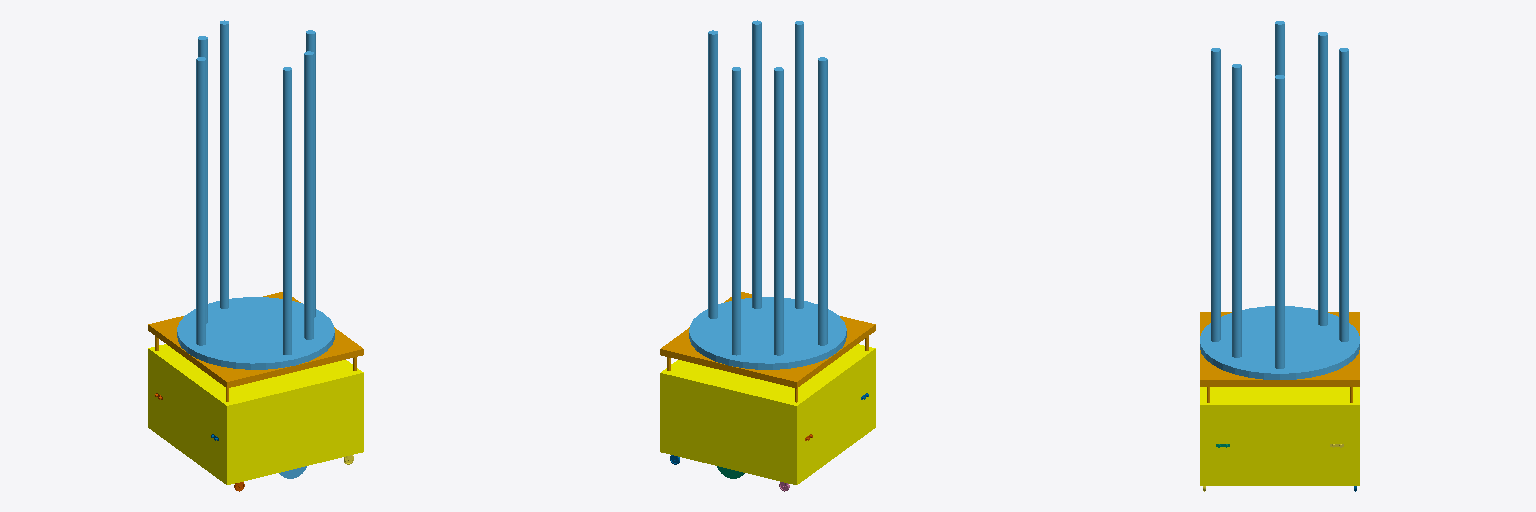
The robot description file, URDF, robot "uvd_mec":
<?xml version="1.0" encoding="utf-8"?>

<robot
  name="uvd_mec" xmlns:xacro="https://www.ros.org/wiki/xacro">
  <link
    name="base_link">
    <inertial>
      <origin
        xyz="0.0 0.0 0.0"
        rpy="0 0 0" />
      <mass
        value="10" />
      <inertia
        ixx="0.01"
        ixy="0.0"
        ixz="0.0"
        iyy="0.01"
        iyz="0.0"
        izz="0.01" />
    </inertial>
    <visual>
      <origin
        xyz="0 0 0"
        rpy="0 0 0" />
      <geometry>
        <mesh
          filename="package://uvd/meshes/base.stl" />
      </geometry>
      <material
        name="">
        <color
          rgba="1 1 0 1" />
      </material>
    </visual>
    <collision>
      <origin
        xyz="0 0 0"
        rpy="0 0 0" />
      <geometry>
	  <box size="0.45 0.45 0.25" />
      </geometry>
    </collision>
  </link>
  <link
    name="back_right_wheel">
    <inertial>
      <origin
        xyz="0.0 0.0 0.0"
        rpy="0 0 0" />
      <mass
        value="3" />
      <inertia
        ixx="0.01"
        ixy="0.0"
        ixz="0.0"
        iyy="0.01"
        iyz="0.0"
        izz="0.01" />
    </inertial>
    <visual>
      <origin
        xyz="0 0 0"
        rpy="0 0 0" />
      <geometry>
        <mesh
          filename="package://uvd/meshes/wheel.stl" />
      </geometry>
    </visual>
    <collision>
      <origin
        xyz="0 0 0"
        rpy="0 1.57075 1.57075" />
      <geometry>
	  <cylinder length="0.03" radius="0.05"/>
      </geometry>
    </collision>
  </link>
  <joint
    name="back_right_wheel_joint"
    type="continuous">
    <origin
      xyz="0 -0.2 -0.11"
      rpy="0 0 0" />
    <parent
      link="base_link" />
    <child
      link="back_right_wheel" />
    <axis
      xyz="0 -1 0" />
  </joint>
  <link
    name="back_left_wheel">
    <inertial>
      <origin
        xyz="0.0 0.0 0.0"
        rpy="0 0 0" />
      <mass
        value="3" />
      <inertia
        ixx="0.01"
        ixy="0.0"
        ixz="0.0"
        iyy="0.01"
        iyz="0.0"
        izz="0.01" />
    </inertial>
    <visual>
      <origin
        xyz="0 0 0"
        rpy="0 0 0" />
      <geometry>
        <mesh
          filename="package://uvd/meshes/wheel.stl" />
      </geometry>
    </visual>
    <collision>
      <origin
        xyz="0 0 0"
        rpy="0 1.57075 1.57075" />
      <geometry>
	  <cylinder length="0.03" radius="0.05"/>
      </geometry>
    </collision>
  </link>
  <joint
    name="back_left_wheel_joint"
    type="continuous">
    <origin
      xyz="0 0.2 -0.11"
      rpy="0 0 3.1416" />
    <parent
      link="base_link" />
    <child

      link="back_left_wheel" />
    <axis
      xyz="0 1 0" />
  </joint>

  <gazebo>
    <plugin filename="libgazebo_ros_diff_drive.so" name="differential_drive_controller_front">
      <rosDebugLevel>Debug</rosDebugLevel>
      <publishWheelTF>True</publishWheelTF>
      <publishTf>1</publishTf>
      <publishWheelJointState>true</publishWheelJointState>
      <alwaysOn>true</alwaysOn>
      <updateRate>100.0</updateRate>
      <leftJoint>back_right_wheel_joint</leftJoint>
      <rightJoint>back_left_wheel_joint</rightJoint>
      <wheelSeparation>0.4</wheelSeparation>
      <wheelDiameter>0.1</wheelDiameter>
      <broadcastTF>1</broadcastTF>
      <wheelTorque>30</wheelTorque>
      <wheelAcceleration>1.8</wheelAcceleration>
      <commandTopic>cmd_vel</commandTopic>
      <odometryFrame>odom</odometryFrame>
      <odometryTopic>odom</odometryTopic>
      <robotBaseFrame>base_link</robotBaseFrame>
    </plugin>
  </gazebo>


  <link
    name="front_caster_right_wheel">
    <inertial>
      <origin
        xyz="0.0 0.0 0.0"
        rpy="0 0 0" />
      <mass
        value="3" />
      <inertia
        ixx="0.01"
        ixy="0.0"
        ixz="0.0"
        iyy="0.01"
        iyz="0.0"
        izz="0.01" />
    </inertial>
    <visual>
      <origin
        xyz="0 0 0"
        rpy="0 0 0" />
      <geometry>
        <mesh
          filename="package://uvd/meshes/caster.stl" />
      </geometry>
    </visual>
    <collision>
      <origin
        xyz="0.005 0 -0.0085"
        rpy="0 0 0" />
      <geometry>
	  <box size="0.037942 0.014811 0.037519" />
      </geometry>
    </collision>
  </link>
  <joint
    name="front_caster_right_wheel_joint"
    type="fixed">
    <origin
      xyz="0.18 -0.21 -0.1327"
      rpy="0 0 0" />
    <parent
      link="base_link" />
    <child

      link="front_caster_right_wheel" />
    <axis
      xyz="0 0 0" />
  </joint>
  <link
    name="front_caster_left_wheel">
    <inertial>
      <origin
        xyz="0.0 0.0 0.0"
        rpy="0 0 0" />
      <mass
        value="3" />
      <inertia
        ixx="0.01"
        ixy="0.0"
        ixz="0.0"
        iyy="0.01"
        iyz="0.0"
        izz="0.01" />
    </inertial>
    <visual>
      <origin
        xyz="0 0 0"
        rpy="0 0 0" />
      <geometry>
        <mesh
          filename="package://uvd/meshes/caster.stl" />
      </geometry>
    </visual>
    <collision>
      <origin
        xyz="0.005 0 -0.0085"
        rpy="0 0 0" />
      <geometry>
	  <box size="0.037942 0.014811 0.037519" />
      </geometry>
    </collision>
  </link>
  <joint
    name="front_caster_left_wheel_joint"
    type="fixed">
    <origin
      xyz="0.18 0.21 -0.1327"
      rpy="0 0 0" />
    <parent
      link="base_link" />
    <child
      link="front_caster_left_wheel" />
    <axis
      xyz="0 0 0" />
  </joint>

  <link
    name="back_caster_right_wheel">
    <inertial>
      <origin
        xyz="0.0 0.0 0.0"
        rpy="0 0 0" />
      <mass
        value="3" />
      <inertia
        ixx="0.01"
        ixy="0.0"
        ixz="0.0"
        iyy="0.01"
        iyz="0.0"
        izz="0.01" />
    </inertial>
    <visual>
      <origin
        xyz="0 0 0"
        rpy="0 0 0" />
      <geometry>
        <mesh
          filename="package://uvd/meshes/caster.stl" />
      </geometry>
    </visual>
    <collision>
      <origin
        xyz="0.005 0 -0.0085"
        rpy="0 0 0" />
      <geometry>
	  <box size="0.037942 0.014811 0.037519" />
      </geometry>
    </collision>
  </link>
  <joint
    name="back_caster_right_wheel_joint"
    type="fixed">
    <origin
      xyz="-0.18 -0.21 -0.1327"
      rpy="0 0 0" />
    <parent
      link="base_link" />
    <child
      link="back_caster_right_wheel" />
    <axis
      xyz="0 0 0" />
  </joint>
  <link
    name="back_caster_left_wheel">
    <inertial>
      <origin
        xyz="0.0 0.0 0.0"
        rpy="0 0 0" />
      <mass
        value="3" />
      <inertia
        ixx="0.01"
        ixy="0.0"
        ixz="0.0"
        iyy="0.01"
        iyz="0.0"
        izz="0.01" />
    </inertial>
    <visual>
      <origin
        xyz="0 0 0"
        rpy="0 0 0" />
      <geometry>
        <mesh
          filename="package://uvd/meshes/caster.stl" />
      </geometry>
    </visual>
    <collision>
      <origin
        xyz="0.005 0 -0.0085"
        rpy="0 0 0" />
      <geometry>
	  <box size="0.037942 0.014811 0.037519" />
      </geometry>
    </collision>
  </link>
  <joint
    name="back_caster_left_wheel_joint"
    type="fixed">
    <origin
      xyz="-0.18 0.21 -0.1327"
      rpy="0 0 0" />
    <parent
      link="base_link" />
    <child
      link="back_caster_left_wheel" />
    <axis
      xyz="0 0 0" />
  </joint>
  <!-- rplidar Laser -->
  <link name="laser">
    <collision>
      <origin xyz="0 0 0" rpy="0 0 0"/>
      <geometry>
    <box size="0.1 0.1 0.1"/>
      </geometry>
    </collision>

    <visual>
      <origin xyz="0 0 0" rpy="0 0 0"/>
      <geometry>
        <mesh filename="package://uvd/meshes/lidar.STL" />
      </geometry>
    </visual>

    <inertial>
      <mass value="1e-5" />
      <origin xyz="0 0 0" rpy="0 0 0"/>
      <inertia ixx="1e-6" ixy="0" ixz="0" iyy="1e-6" iyz="0" izz="1e-6" />
    </inertial>
  </link>

  <joint name="rplidar_joint" type="fixed">
    <axis xyz="0 1 0" />
    <origin xyz="-.15 0 .2" rpy="0 0 0"/>
    <parent link="base_link"/>
    <child link="laser"/>
  </joint>

  <!-- <link
    name="lidar">
    <inertial>
      <origin
        xyz="0.0 0.0 0.0"
        rpy="0 0 0" />
      <mass
        value="3" />
      <inertia
        ixx="0.01"
        ixy="0.0"
        ixz="0.0"
        iyy="0.01"
        iyz="0.0"
        izz="0.01" />
    </inertial>
    <visual>
      <origin
        xyz="0 0 0"
        rpy="0 0 0" />
      <geometry>
        <mesh
          filename="package://uvd/meshes/lidar.STL" />
      </geometry>
    </visual>
    <collision>
      <origin
        xyz="0 0 0"
        rpy="0 0 0" />
      <geometry>
        <mesh
          filename="package://uvd/meshes/lidar.STL" />
      </geometry>
    </collision>
  </link>
  <joint
    name="lidar_joint"
    type="fixed">
    <origin
      xyz="0.16 0 0.15"
      rpy="0 0 0" />
    <parent
      link="base_link" />
    <child
      link="lidar" />
    <axis
      xyz="0 0 0" />
  </joint> -->

  <gazebo reference="lidar">
    <sensor type="ray" name="lds_lfcd_sensor">
      <pose>0 0 0 0 0 0</pose>
      <visualize>false</visualize>
      <update_rate>5</update_rate>
      <ray>
        <scan>
          <horizontal>
            <samples>360</samples>
            <resolution>1</resolution>
            <min_angle>0.0</min_angle>
            <max_angle>6.28319</max_angle>
          </horizontal>
        </scan>
        <range>
          <min>0.120</min>
          <max>30.0</max>
          <resolution>0.015</resolution>
        </range>
        <noise>
          <type>gaussian</type>
          <mean>0.0</mean>
          <stddev>0.01</stddev>
        </noise>
      </ray>
      <plugin name="gazebo_ros_lds_lfcd_controller" filename="libgazebo_ros_laser.so">
        <topicName>scan</topicName>
        <frameName>lidar</frameName>
      </plugin>
    </sensor>
  </gazebo>


  <link
    name="shelf">
    <inertial>
      <origin
        xyz="0.0 0.0 0.0"
        rpy="0 0 0" />
      <mass
        value="3" />
      <inertia
        ixx="0.01"
        ixy="0.0"
        ixz="0.0"
        iyy="0.01"
        iyz="0.0"
        izz="0.01" />
    </inertial>
    <visual>
      <origin
        xyz="0 0 0"
        rpy="0 0 0" />
      <geometry>
        <mesh
          filename="package://uvd/meshes/shelf.stl" />
      </geometry>
    </visual>
    <collision>
      <origin
        xyz="0 0 0"
        rpy="0 0 0" />
      <geometry>
        <box size="0.45 0.45 0.04" />
      </geometry>
    </collision>
  </link>
  <joint
    name="shelf_joint"
    type="fixed">
    <origin
      xyz="0 0 0.19"
      rpy="0 0 0" />
    <parent
      link="base_link" />
    <child
      link="shelf" />
    <axis
      xyz="0 0 0" />
  </joint>

  <link
    name="circuler">
    <inertial>
      <origin
        xyz="0.0 0.0 0.0"
        rpy="0 0 0" />
      <mass
        value="3" />
      <inertia
        ixx="0.01"
        ixy="0.0"
        ixz="0.0"
        iyy="0.01"
        iyz="0.0"
        izz="0.01" />
    </inertial>
    <visual>
      <origin
        xyz="0 0 0"
        rpy="0 0 0" />
      <geometry>
        <mesh
          filename="package://uvd/meshes/circuler.stl" />
      </geometry>
    </visual>
    <collision>
      <origin
        xyz="0 0 0"
        rpy="0 0 0" />
      <geometry>
        <mesh
          filename="package://uvd/meshes/circuler.stl" />
      </geometry>
    </collision>
  </link>
  <joint
    name="circuler_joint"
    type="fixed">
    <origin
      xyz="0 0 0.21"
      rpy="0 0 0" />
    <parent
      link="base_link" />
    <child
      link="circuler" />
    <axis
      xyz="0 0 0" />
  </joint>

  <link
    name="fr_sonar">
    <inertial>
      <origin
        xyz="0.0 0.0 0.0"
        rpy="0 0 0" />
      <mass
        value="3" />
      <inertia
        ixx="0.01"
        ixy="0.0"
        ixz="0.0"
        iyy="0.01"
        iyz="0.0"
        izz="0.01" />
    </inertial>
    <visual>
      <origin
        xyz="0 0 0"
        rpy="0 0 0" />
      <geometry>
        <mesh
          filename="package://uvd/meshes/sonar.stl" />
      </geometry>
    </visual>
    <collision>
      <origin
        xyz="0 0 0"
        rpy="0 0 0" />
      <geometry>
        <mesh
          filename="package://uvd/meshes/sonar.stl" />
      </geometry>
    </collision>
  </link>
  <joint
    name="fr_joint"
    type="fixed">
    <origin
      xyz="0.225 -0.16 0"
      rpy="0 0 0" />
    <parent
      link="base_link" />
    <child
      link="fr_sonar" />
    <axis
      xyz="0 0 0" />
  </joint>

    <gazebo reference="fr_sonar">
      <sensor type="ray" name="fr_sonar">
        <always_on>true</always_on>
        <update_rate>10</update_rate>
        <pose>0 0 0 0 0 0</pose>
        <visualize>false</visualize>
        <ray>
          <scan>
            <horizontal>
              <samples>3</samples>
              <resolution>1</resolution>
              <min_angle>-0.698111111111111</min_angle>
              <max_angle> 0.698111111111111</max_angle>
            </horizontal>
            <vertical>
              <samples>3</samples>
              <resolution>1</resolution>
              <min_angle>-0.698111111111111</min_angle>
              <max_angle> 0.698111111111111</max_angle>
            </vertical>
          </scan>
          <range>
            <min>0.03</min>
            <max>3.0</max>
            <resolution>0.01</resolution>
          </range>
        </ray>

        <plugin name="gazebo_ros_fr_sonar_controller" filename="libhector_gazebo_ros_sonar.so">
          <gaussianNoise>0.005</gaussianNoise>
          <topicName>fr_scan</topicName>
          <frameId>fr_sonar</frameId>
        </plugin>
      </sensor>
    </gazebo>

  <link
    name="fl_sonar">
    <inertial>
      <origin
        xyz="0.0 0.0 0.0"
        rpy="0 0 0" />
      <mass
        value="3" />
      <inertia
        ixx="0.01"
        ixy="0.0"
        ixz="0.0"
        iyy="0.01"
        iyz="0.0"
        izz="0.01" />
    </inertial>
    <visual>
      <origin
        xyz="0 0 0"
        rpy="0 0 0" />
      <geometry>
        <mesh
          filename="package://uvd/meshes/sonar.stl" />
      </geometry>
    </visual>
    <collision>
      <origin
        xyz="0 0 0"
        rpy="0 0 0" />
      <geometry>
        <mesh
          filename="package://uvd/meshes/sonar.stl" />
      </geometry>
    </collision>
  </link>
  <joint
    name="fl_joint"
    type="fixed">
    <origin
      xyz="0.225 0.16 0"
      rpy="0 0 0" />
    <parent
      link="base_link" />
    <child
      link="fl_sonar" />
    <axis
      xyz="0 0 0" />
  </joint>

    <gazebo reference="fl_sonar">
      <sensor type="ray" name="fl_sonar">
        <always_on>true</always_on>
        <update_rate>10</update_rate>
        <pose>0 0 0 0 0 0</pose>
        <visualize>false</visualize>
        <ray>
          <scan>
            <horizontal>
              <samples>3</samples>
              <resolution>1</resolution>
              <min_angle>-0.698111111111111</min_angle>
              <max_angle> 0.698111111111111</max_angle>
            </horizontal>
            <vertical>
              <samples>3</samples>
              <resolution>1</resolution>
              <min_angle>-0.698111111111111</min_angle>
              <max_angle> 0.698111111111111</max_angle>
            </vertical>
          </scan>
          <range>
            <min>0.03</min>
            <max>3.0</max>
            <resolution>0.01</resolution>
          </range>
        </ray>

        <plugin name="gazebo_ros_fl_sonar_controller" filename="libhector_gazebo_ros_sonar.so">
          <gaussianNoise>0.005</gaussianNoise>
          <topicName>fl_scan</topicName>
          <frameId>fl_sonar</frameId>
        </plugin>
      </sensor>
    </gazebo>

  <link
    name="br_sonar">
    <inertial>
      <origin
        xyz="0.0 0.0 0.0"
        rpy="0 0 0" />
      <mass
        value="3" />
      <inertia
        ixx="0.01"
        ixy="0.0"
        ixz="0.0"
        iyy="0.01"
        iyz="0.0"
        izz="0.01" />
    </inertial>
    <visual>
      <origin
        xyz="0 0 0"
        rpy="0 0 0" />
      <geometry>
        <mesh
          filename="package://uvd/meshes/sonar.stl" />
      </geometry>
    </visual>
    <collision>
      <origin
        xyz="0 0 0"
        rpy="0 0 0" />
      <geometry>
        <mesh
          filename="package://uvd/meshes/sonar.stl" />
      </geometry>
    </collision>
  </link>
  <joint
    name="br_joint"
    type="fixed">
    <origin
      xyz="-0.225 -0.16 0"
      rpy="0 0 3.14159" />
    <parent
      link="base_link" />
    <child
      link="br_sonar" />
    <axis
      xyz="0 0 0" />
  </joint>

    <gazebo reference="br_sonar">
      <sensor type="ray" name="br_sonar">
        <always_on>true</always_on>
        <update_rate>10</update_rate>
        <pose>0 0 0 0 0 0</pose>
        <visualize>false</visualize>
        <ray>
          <scan>
            <horizontal>
              <samples>3</samples>
              <resolution>1</resolution>
              <min_angle>-0.698111111111111</min_angle>
              <max_angle> 0.698111111111111</max_angle>
            </horizontal>
            <vertical>
              <samples>3</samples>
              <resolution>1</resolution>
              <min_angle>-0.698111111111111</min_angle>
              <max_angle> 0.698111111111111</max_angle>
            </vertical>
          </scan>
          <range>
            <min>0.03</min>
            <max>3.0</max>
            <resolution>0.01</resolution>
          </range>
        </ray>

        <plugin name="gazebo_ros_br_sonar_controller" filename="libhector_gazebo_ros_sonar.so">
          <gaussianNoise>0.005</gaussianNoise>
          <topicName>br_scan</topicName>
          <frameId>br_sonar</frameId>
        </plugin>
      </sensor>
    </gazebo>

  <link
    name="bl_sonar">
    <inertial>
      <origin
        xyz="0.0 0.0 0.0"
        rpy="0 0 0" />
      <mass
        value="3" />
      <inertia
        ixx="0.01"
        ixy="0.0"
        ixz="0.0"
        iyy="0.01"
        iyz="0.0"
        izz="0.01" />
    </inertial>
    <visual>
      <origin
        xyz="0 0 0"
        rpy="0 0 0" />
      <geometry>
        <mesh
          filename="package://uvd/meshes/sonar.stl" />
      </geometry>
    </visual>
    <collision>
      <origin
        xyz="0 0 0"
        rpy="0 0 0" />
      <geometry>
        <mesh
          filename="package://uvd/meshes/sonar.stl" />
      </geometry>
    </collision>
  </link>
  <joint
    name="bl_joint"
    type="fixed">
    <origin
      xyz="-0.225 0.16 0"
      rpy="0 0 3.14159" />
    <parent
      link="base_link" />
    <child
      link="bl_sonar" />
    <axis
      xyz="0 0 0" />
  </joint>

    <gazebo reference="bl_sonar">
      <sensor type="ray" name="bl_sonar">
        <always_on>true</always_on>
        <update_rate>10</update_rate>
        <pose>0 0 0 0 0 0</pose>
        <visualize>false</visualize>
        <ray>
          <scan>
            <horizontal>
              <samples>3</samples>
              <resolution>1</resolution>
              <min_angle>-0.698111111111111</min_angle>
              <max_angle> 0.698111111111111</max_angle>
            </horizontal>
            <vertical>
              <samples>3</samples>
              <resolution>1</resolution>
              <min_angle>-0.698111111111111</min_angle>
              <max_angle> 0.698111111111111</max_angle>
            </vertical>
          </scan>
          <range>
            <min>0.03</min>
            <max>3.0</max>
            <resolution>0.01</resolution>
          </range>
        </ray>

        <plugin name="gazebo_ros_bl_sonar_controller" filename="libhector_gazebo_ros_sonar.so">
          <gaussianNoise>0.005</gaussianNoise>
          <topicName>bl_scan</topicName>
          <frameId>bl_sonar</frameId>
        </plugin>
      </sensor>
    </gazebo>

  <link name="imu_link"/>
  <joint name="imu_joint" type="fixed">
    <parent link="base_link"/>
    <child link="imu_link"/>
    <origin xyz="-0.032 0 0.068" rpy="0 0 0"/>
  </joint>

 <gazebo>
    <plugin name="imu_plugin" filename="libgazebo_ros_imu.so">
      <alwaysOn>true</alwaysOn>
      <bodyName>imu_link</bodyName>
      <frameName>imu_link</frameName>
      <topicName>imu</topicName>
      <serviceName>imu_service</serviceName>
      <gaussianNoise>0.0</gaussianNoise>
      <updateRate>200</updateRate>
      <imu>
        <noise>
          <type>gaussian</type>
          <rate>
            <mean>0.0</mean>
            <stddev>2e-4</stddev>
            <bias_mean>0.0000075</bias_mean>
            <bias_stddev>0.0000008</bias_stddev>
          </rate>
          <accel>
            <mean>0.0</mean>
            <stddev>1.7e-2</stddev>
            <bias_mean>0.1</bias_mean>
            <bias_stddev>0.001</bias_stddev>
          </accel>
        </noise>
      </imu>
    </plugin>
  </gazebo>

</robot>

--- Render facts (derived) ---
The picture shows the robot from 3 angles, left to right: view 1: azimuth 30°, elevation 25°; view 2: azimuth 150°, elevation 25°; view 3: azimuth 270°, elevation 25°; orthographic projection.
Model uvd_mec with 15 links and 14 joints (2 continuous, 12 fixed), rooted at base_link, posed every joint at zero.
Links seen in each view (by area): view 1: base_link, circuler, shelf; view 2: circuler, base_link, shelf; view 3: circuler, base_link, shelf.
Link boxes in pixels (x1=…): base_link: x1=148, y1=344, x2=363, y2=484; circuler: x1=177, y1=20, x2=334, y2=369; shelf: x1=148, y1=292, x2=363, y2=401; circuler: x1=689, y1=20, x2=846, y2=369; base_link: x1=660, y1=344, x2=875, y2=484; shelf: x1=660, y1=292, x2=875, y2=402; circuler: x1=1200, y1=21, x2=1359, y2=379; base_link: x1=1200, y1=387, x2=1359, y2=485; shelf: x1=1200, y1=312, x2=1359, y2=402.
Size in the robot's own frame: 0.466 by 0.45 by 1.28 metres.
Meshes: 7 distinct files referenced, 14 mesh visuals loaded (7 binary STL).
